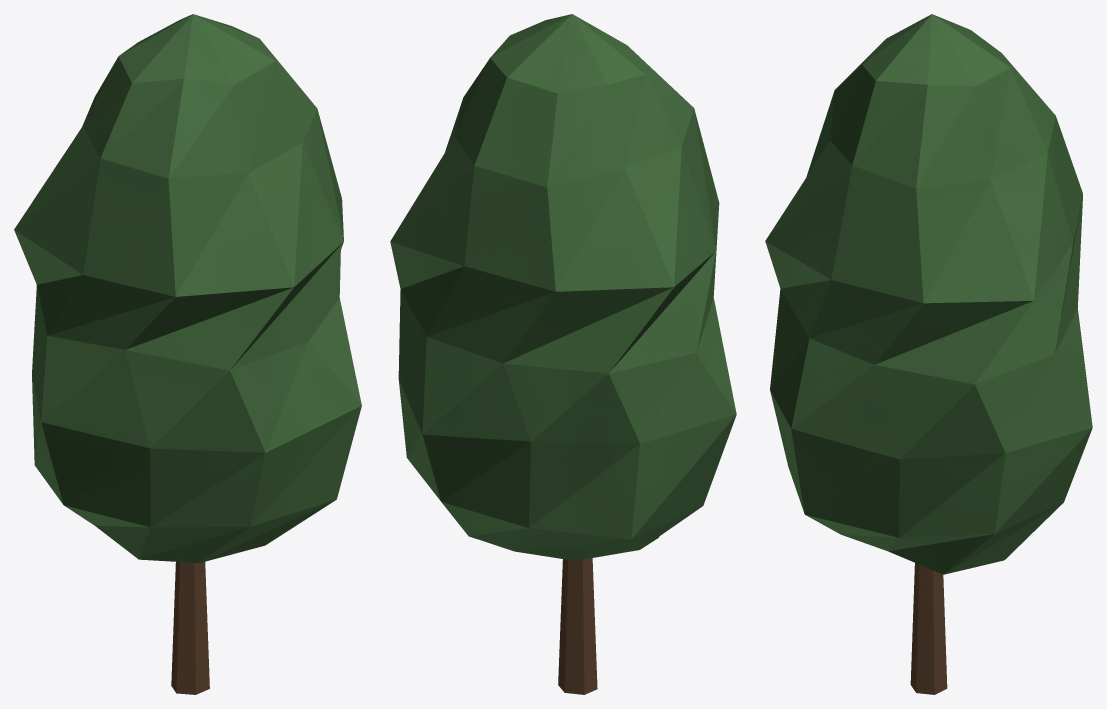
Rendered from far_jura_tall.fbx.
3 renders of one model, left to right at view 1: azimuth 30°, elevation 25°; view 2: azimuth 150°, elevation 25°; view 3: azimuth 270°, elevation 25°, orthographic.
Visible parts, largest first — view 1: far_jura_tall__Card; view 2: far_jura_tall__Card; view 3: far_jura_tall__Card.
Boxes of the visible parts, left/top/right/bottom form: far_jura_tall__Card: left=14, top=14, right=361, bottom=694; far_jura_tall__Card: left=390, top=14, right=736, bottom=694; far_jura_tall__Card: left=765, top=14, right=1092, bottom=694.
Size of the model in its own units: 36 by 75 by 33.
1 material, 1 textured.
